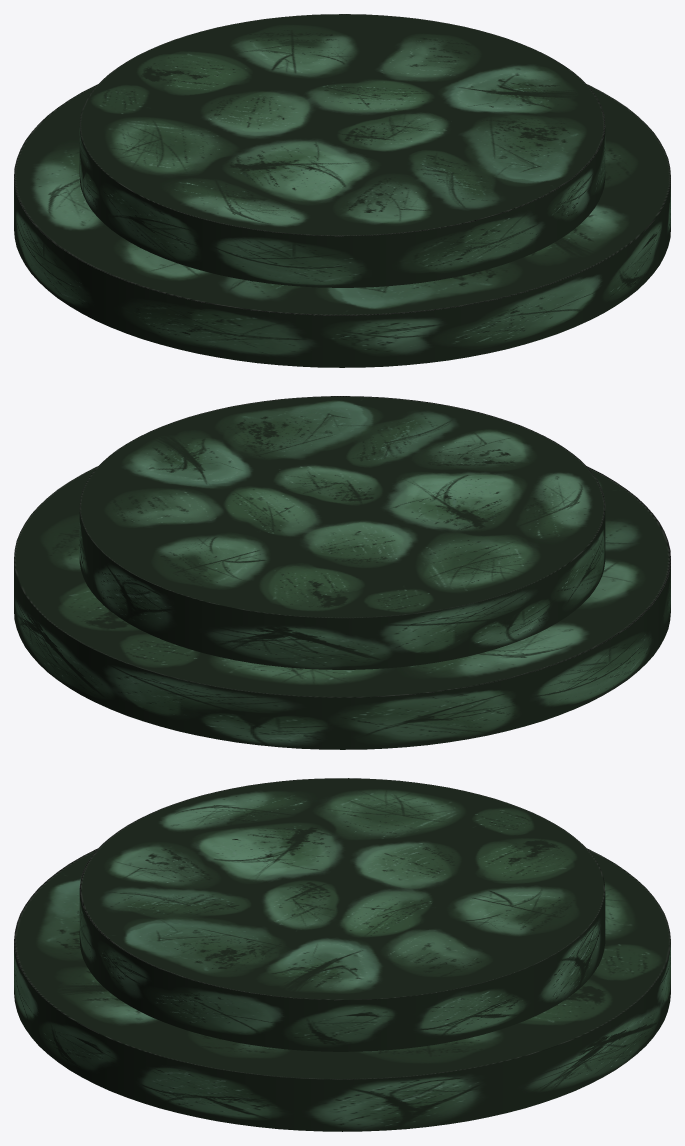
File: Enemy stand [Beta].fbx
The picture shows the model from 3 angles, top to bottom: view 1: azimuth 30°, elevation 25°; view 2: azimuth 150°, elevation 25°; view 3: azimuth 270°, elevation 25°; orthographic projection.
Parts seen in each view (by area): view 1: Cylinder; view 2: Cylinder; view 3: Cylinder.
Part boxes in pixels (x1=…): Cylinder: x1=14, y1=14, x2=670, y2=367; Cylinder: x1=14, y1=396, x2=670, y2=749; Cylinder: x1=14, y1=778, x2=670, y2=1131.
Size of the model in its own units: 199 by 34.74 by 199.
